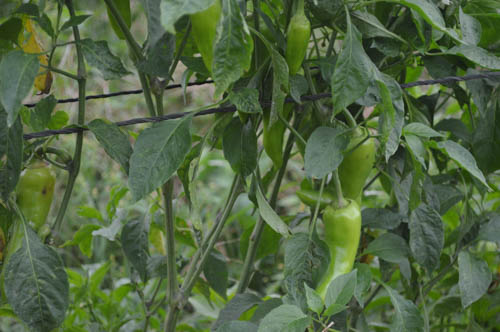ChiliPepper: (290, 130, 374, 203), (312, 209, 367, 307), (6, 170, 58, 260), (285, 19, 308, 73)
